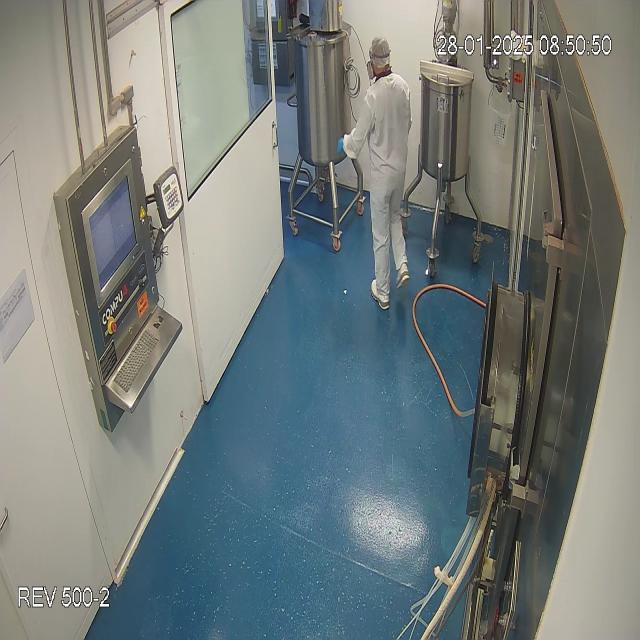bota: (365, 260, 414, 311)
pessoa: (338, 39, 414, 310)
touca: (368, 35, 392, 76)
